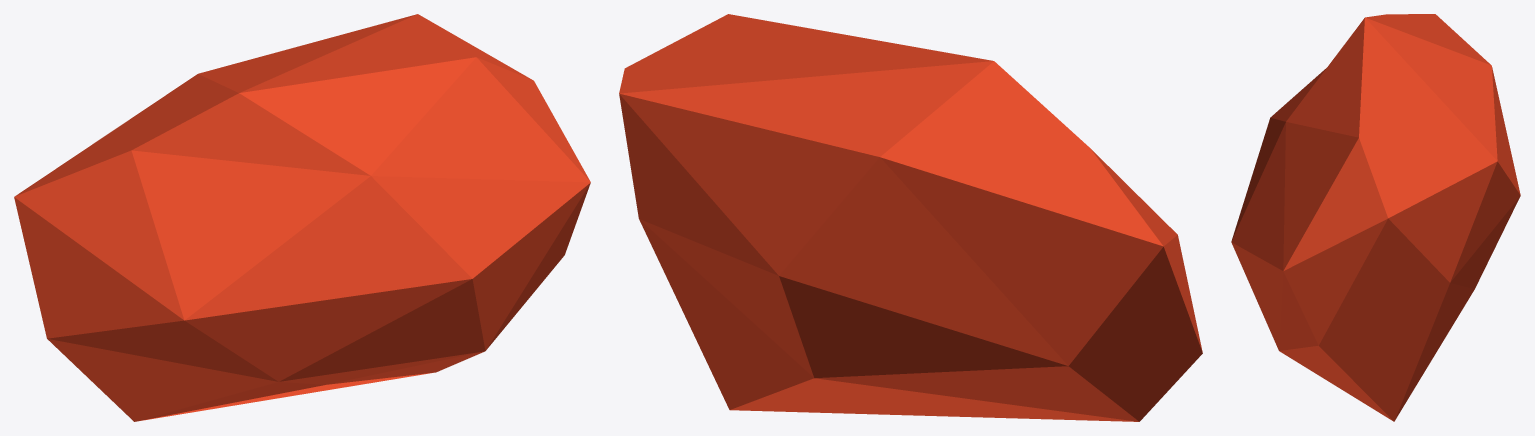
File: Natures2p5-orange.fbx
The picture shows the model from 3 angles, left to right: view 1: azimuth 30°, elevation 25°; view 2: azimuth 150°, elevation 25°; view 3: azimuth 270°, elevation 25°; orthographic projection. The views are drawn at different scales.
Visible parts, largest first — view 1: p5-orange; view 2: p5-orange; view 3: p5-orange.
Part boxes in pixels (x1=…): p5-orange: x1=14, y1=14, x2=590, y2=421; p5-orange: x1=619, y1=14, x2=1202, y2=421; p5-orange: x1=1231, y1=14, x2=1520, y2=421.
Size of the model in its own units: 336 by 223 by 188.
